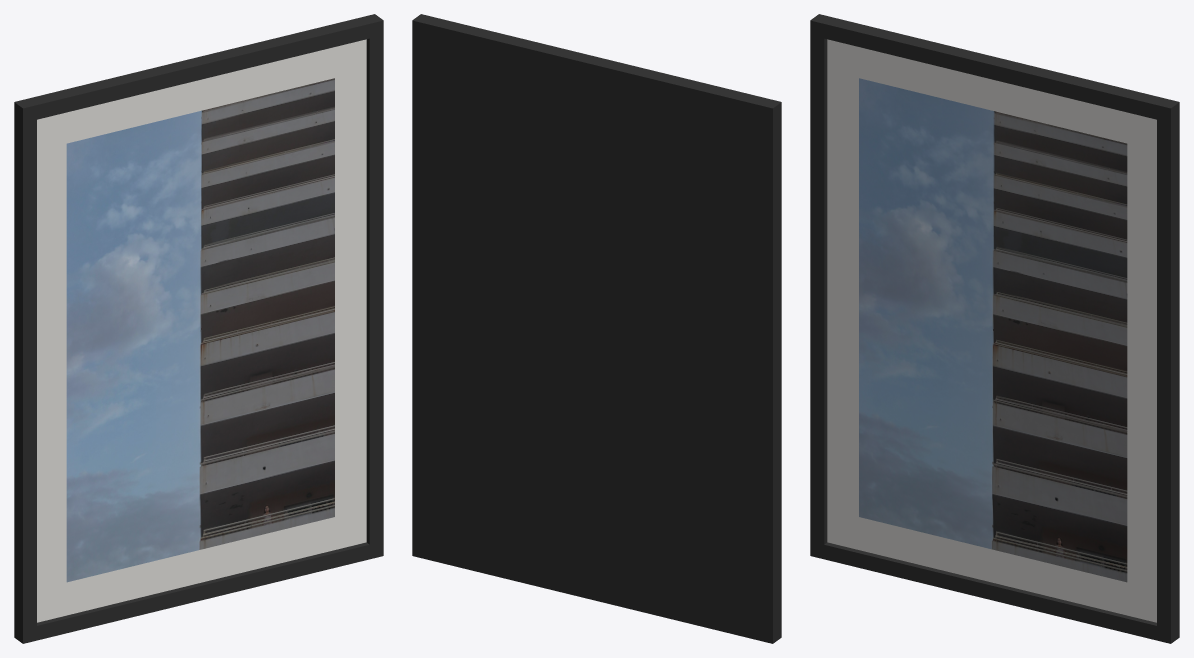
File: balkongerna-60.gltf
The picture shows the model from 3 angles, left to right: view 1: azimuth 30°, elevation 25°; view 2: azimuth 150°, elevation 25°; view 3: azimuth 330°, elevation 25°; orthographic projection.
Visible parts, largest first — view 1: tavla; view 2: tavla; view 3: tavla.
Part boxes in pixels (x1,y1,x2,y2): tavla: (14, 14, 383, 643); tavla: (412, 14, 781, 643); tavla: (810, 14, 1179, 643).
Bounding box in the file's own units: 0.5162 × 0.7322 × 0.022.
3 materials, 1 textured.
